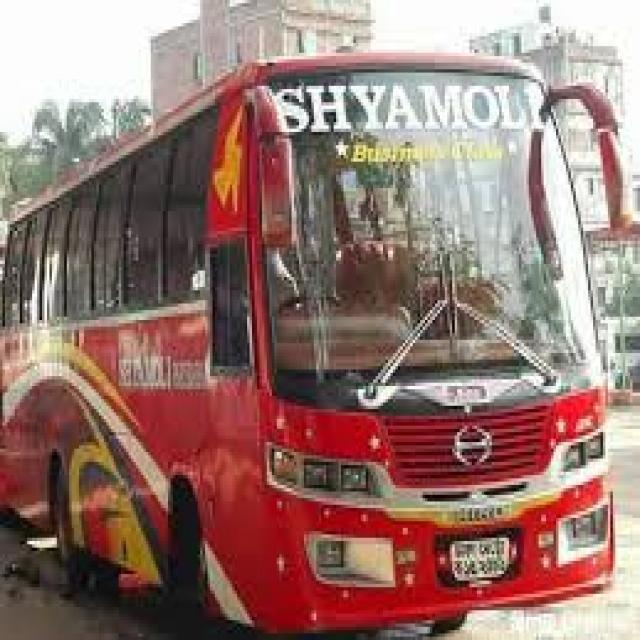bus: (1, 50, 632, 633)
